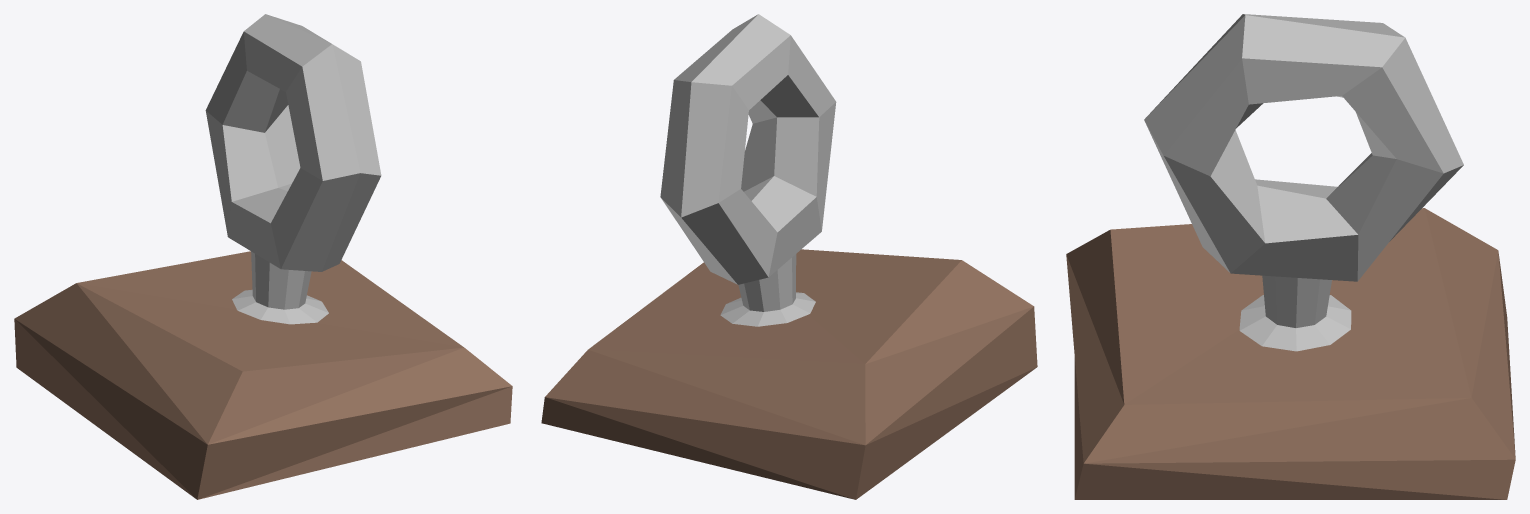
Rendered from bridge_hook_01.fbx.
3 views of the same model, side by side, from view 1: azimuth 30°, elevation 25°; view 2: azimuth 150°, elevation 25°; view 3: azimuth 270°, elevation 25° (orthographic). The views are drawn at different scales.
Parts seen in each view (by area): view 1: pCube187; view 2: pCube187; view 3: pCube187.
Boxes of the visible parts, left/top/right/bottom form: pCube187: left=14, top=14, right=512, bottom=499; pCube187: left=541, top=14, right=1037, bottom=499; pCube187: left=1066, top=14, right=1515, bottom=499.
Size of the model in its own units: 15.12 by 15.71 by 15.15.
